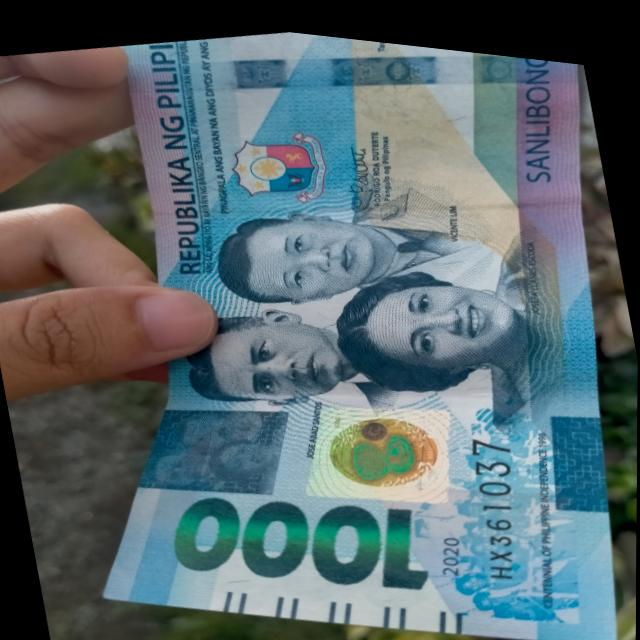concealed_value: (138, 405, 290, 488)
optically_variable_device: (289, 371, 468, 525)
security_thread: (120, 11, 583, 160)
serial_number: (443, 410, 544, 583)
